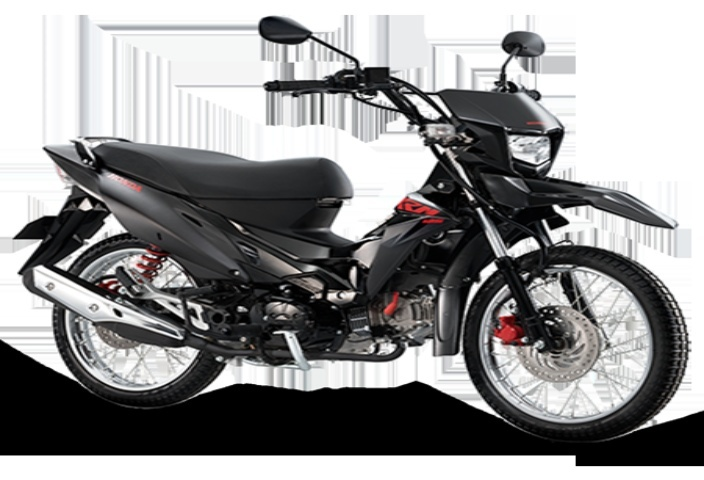motorcycle: (3, 9, 698, 455)
